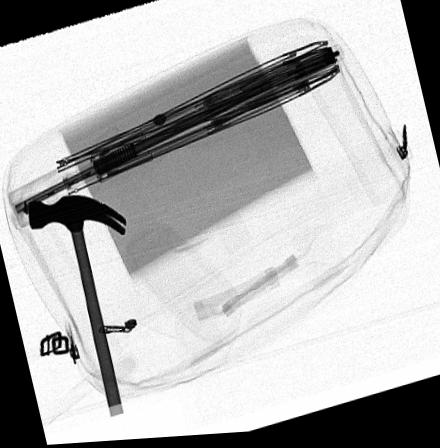Hammer: (26, 195, 126, 417)
